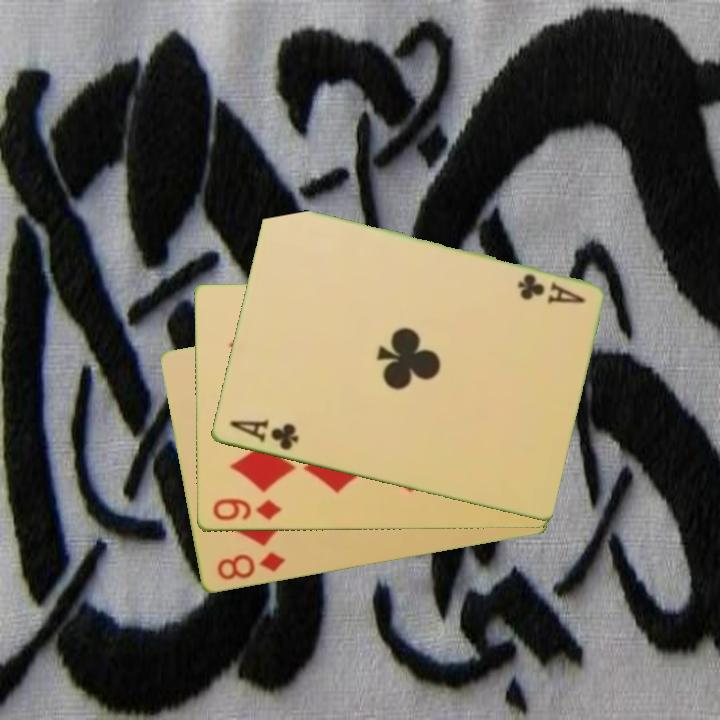8d: (213, 549, 288, 584)
9d: (209, 495, 284, 524)
Ac: (225, 416, 301, 454), (513, 270, 588, 307)
